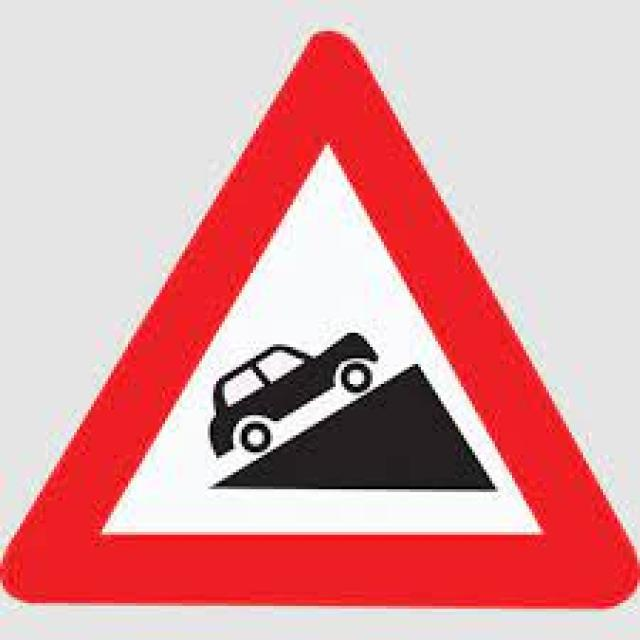steep ascent: (18, 38, 620, 609)
